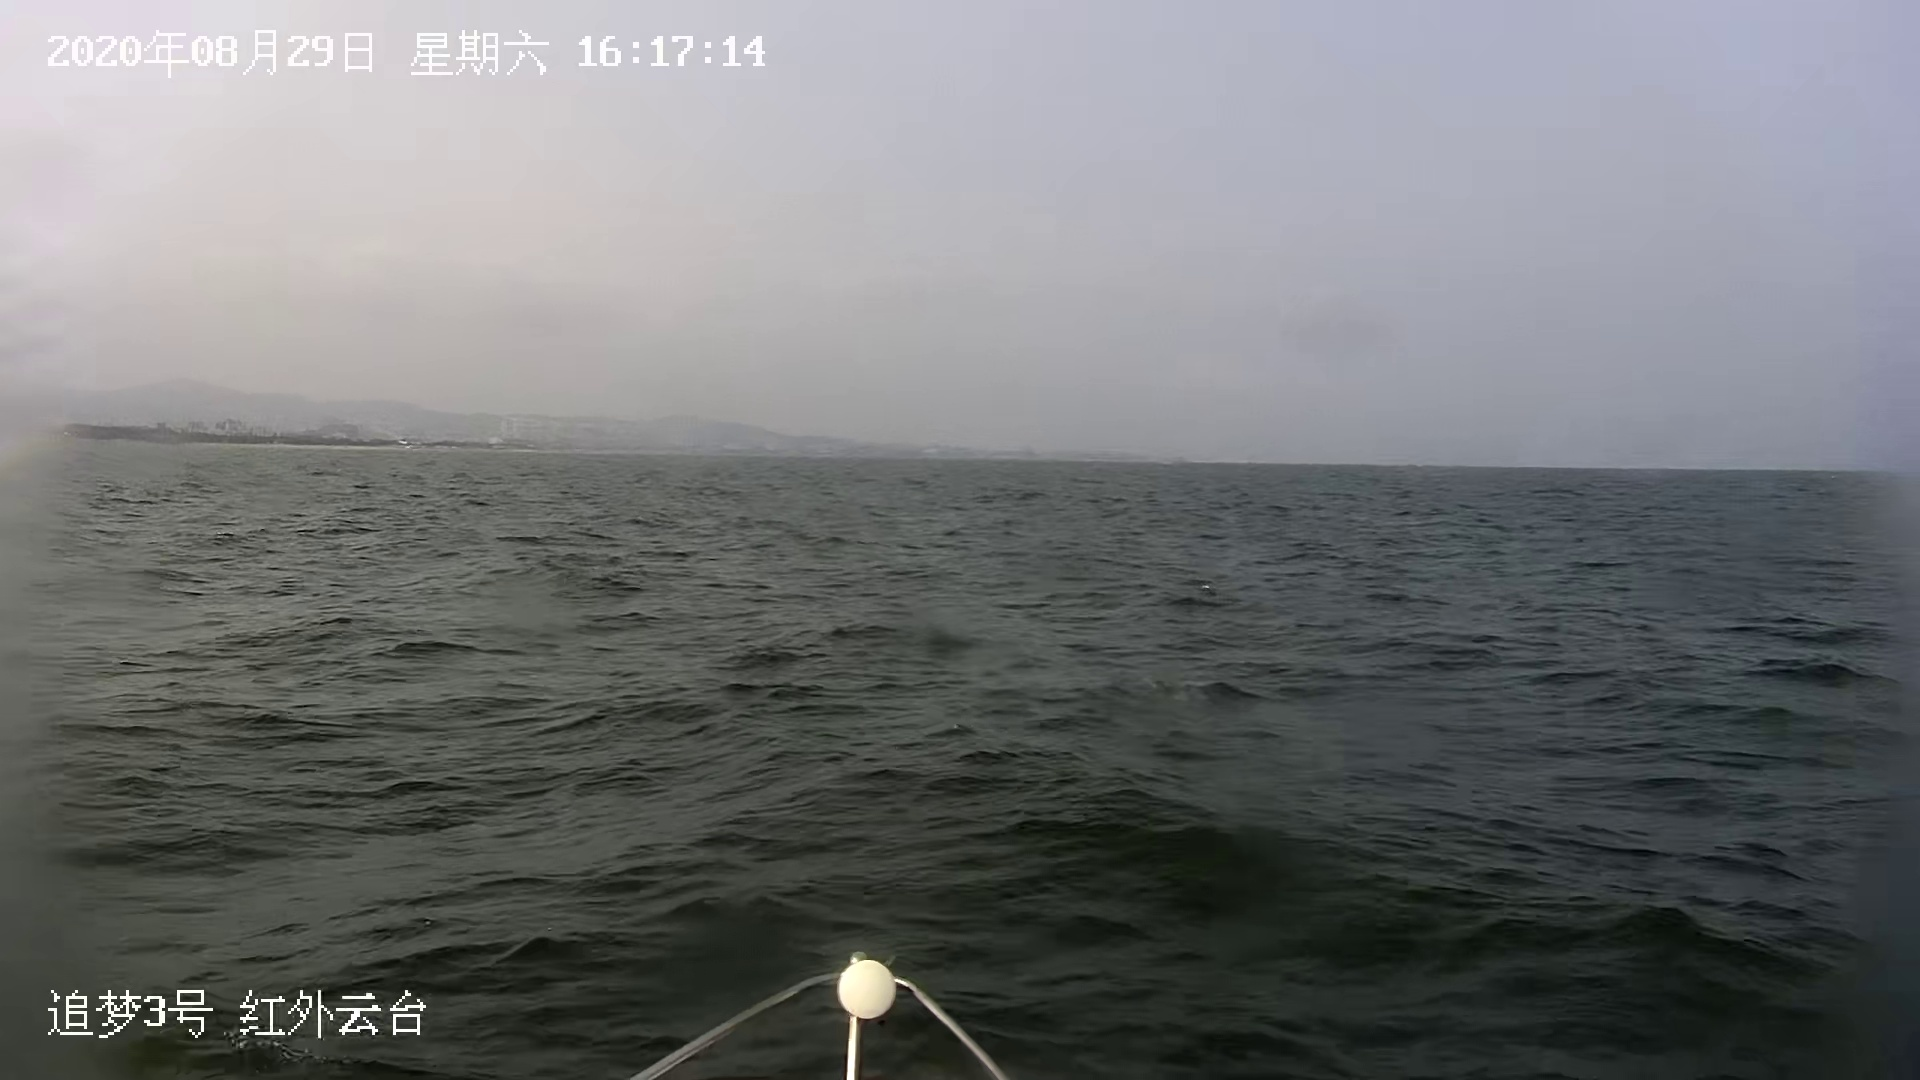coast: (28, 357, 1189, 465)
